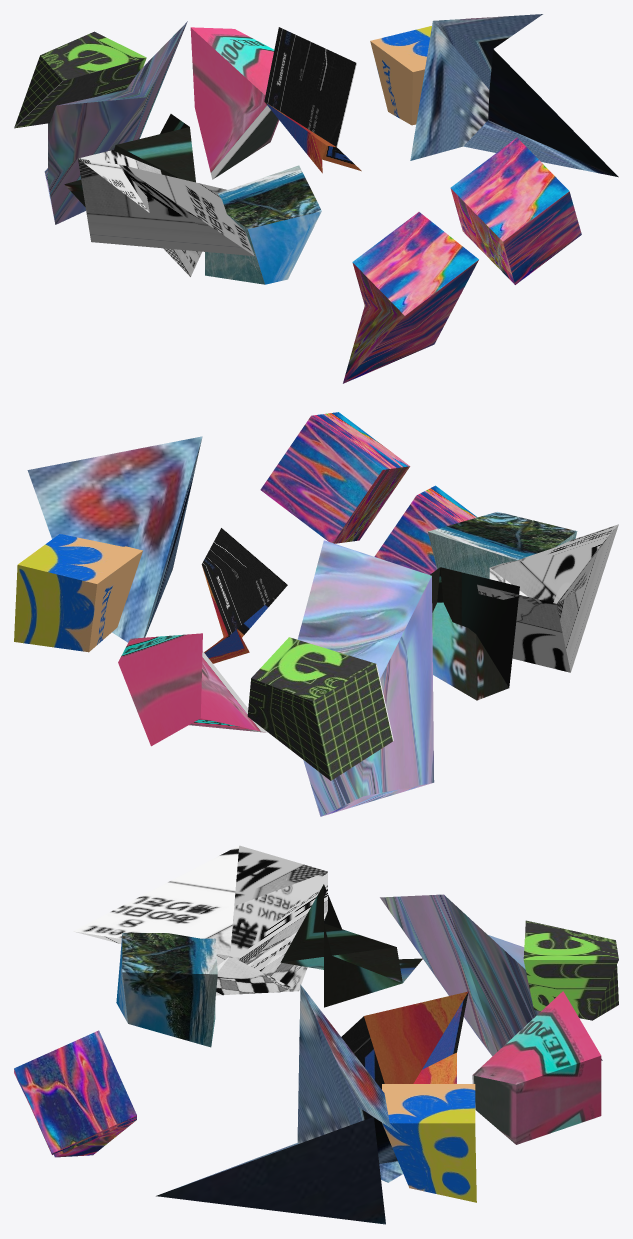
File: sky1996.gltf
3 views of the same model, one above another, from view 1: azimuth 30°, elevation 25°; view 2: azimuth 150°, elevation 25°; view 3: azimuth 270°, elevation 25° (orthographic). The views are drawn at different scales.
Visible parts, largest first — view 1: Cube.005, Cube.009, Cube.002, Cube.008, Cube.004, Cube.001, Cube, Cube.007, Cube.006, Cube.003; view 2: Cube.004, Cube.009, Cube.005, Cube.007, Cube.006, Cube.002, Cube.008, Cube.003, Cube, Cube.001; view 3: Cube.009, Cube.002, Cube.008, Cube.004, Cube.005, Cube.001, Cube.006, Cube, Cube.007, Cube.003.
Part boxes in pixels (left/top/right/bottom): Cube.005: left=343, top=137, right=581, bottom=383; Cube.009: left=410, top=14, right=618, bottom=177; Cube.002: left=78, top=150, right=254, bottom=276; Cube.008: left=190, top=27, right=279, bottom=179; Cube.004: left=44, top=21, right=187, bottom=224; Cube.001: left=205, top=165, right=321, bottom=284; Cube: left=264, top=27, right=361, bottom=173; Cube.007: left=14, top=31, right=146, bottom=128; Cube.006: left=370, top=26, right=431, bottom=125; Cube.003: left=64, top=114, right=195, bottom=206; Cube.004: left=297, top=540, right=434, bottom=816; Cube.009: left=27, top=436, right=202, bottom=642; Cube.005: left=260, top=412, right=477, bottom=574; Cube.007: left=247, top=637, right=393, bottom=780; Cube.006: left=14, top=534, right=142, bottom=652; Cube.002: left=477, top=524, right=618, bottom=672; Cube.008: left=118, top=633, right=266, bottom=746; Cube.003: left=430, top=567, right=519, bottom=700; Cube: left=201, top=527, right=287, bottom=663; Cube.001: left=428, top=511, right=577, bottom=578; Cube.009: left=156, top=984, right=403, bottom=1224; Cube.002: left=73, top=845, right=327, bottom=995; Cube.008: left=472, top=991, right=601, bottom=1144; Cube.004: left=380, top=894, right=602, bottom=1060; Cube.005: left=14, top=1030, right=136, bottom=1157; Cube.001: left=116, top=933, right=217, bottom=1047; Cube.006: left=382, top=1084, right=476, bottom=1202; Cube: left=341, top=991, right=468, bottom=1089; Cube.007: left=523, top=920, right=618, bottom=1020; Cube.003: left=280, top=884, right=422, bottom=1007.
Size of the model in its own units: 12.91 by 6.38 by 12.99.
Materials: 10 (10 with a texture image).
